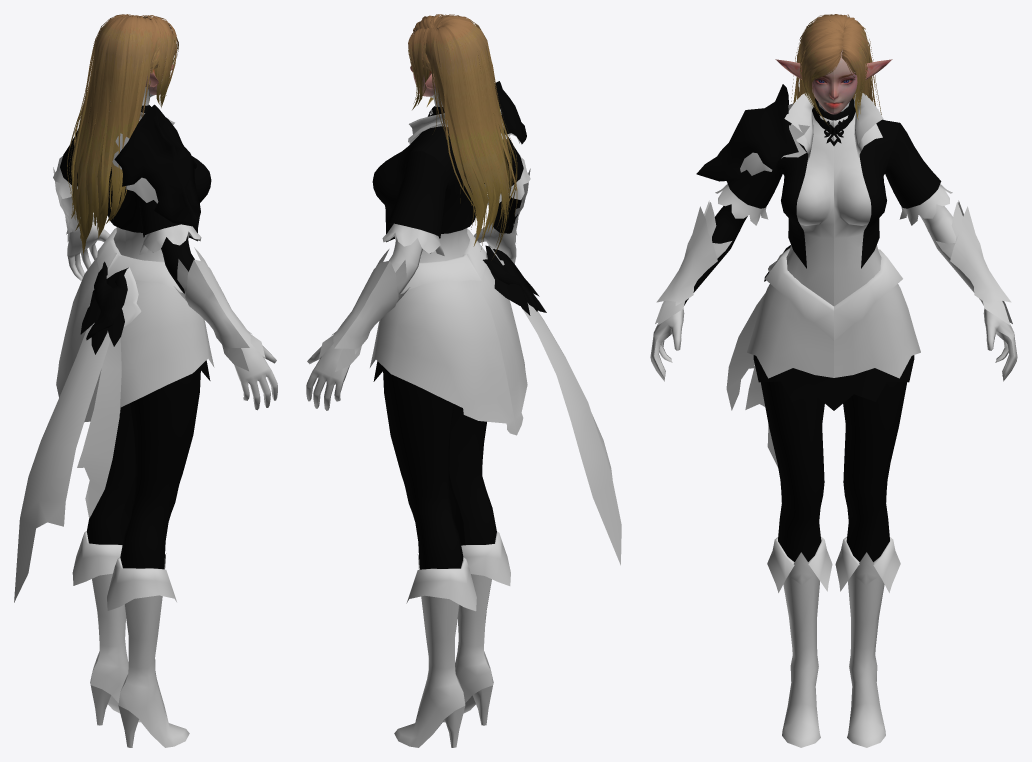
The model's file is beauty_two.FBX.
3 views of the same model, side by side, from view 1: azimuth 30°, elevation 25°; view 2: azimuth 150°, elevation 25°; view 3: azimuth 270°, elevation 25° (orthographic).
Visible parts, largest first — view 1: Tutor_Elf_Majestic; view 2: Tutor_Elf_Majestic; view 3: Tutor_Elf_Majestic.
Part boxes in pixels (x1=…): Tutor_Elf_Majestic: x1=14, y1=14, x2=277, y2=747; Tutor_Elf_Majestic: x1=306, y1=14, x2=621, y2=747; Tutor_Elf_Majestic: x1=650, y1=14, x2=1017, y2=747.
Size of the model in its own units: 2242 by 7310 by 3422.
